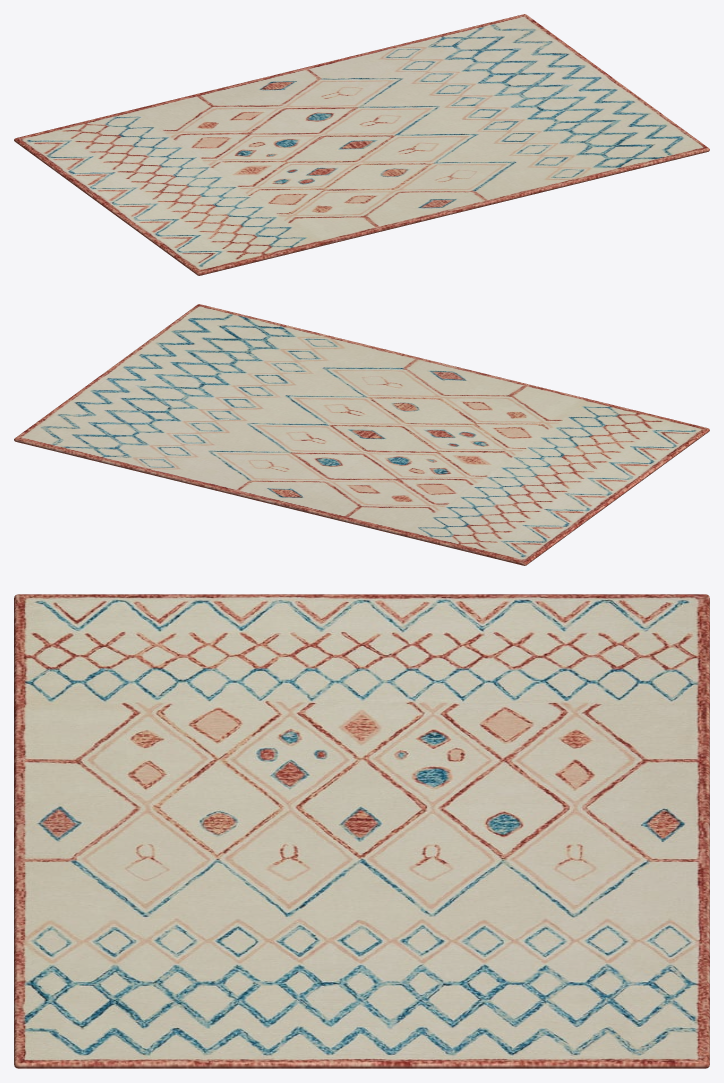
Rendered from rug-diamond.glb.
3 views of the same model, one above another, from view 1: azimuth 30°, elevation 25°; view 2: azimuth 150°, elevation 25°; view 3: azimuth 270°, elevation 25° (orthographic). The views are drawn at different scales.
Visible parts, largest first — view 1: RootNode; view 2: RootNode; view 3: RootNode.
Boxes of the visible parts, x1,y1,x2,y2 form: RootNode: (14,14,709,275); RootNode: (14,304,709,565); RootNode: (14,594,709,1068).
Bounding box in the file's own units: 2.44 × 0.015 × 1.52.
Materials: 1 (1 with a texture image).
